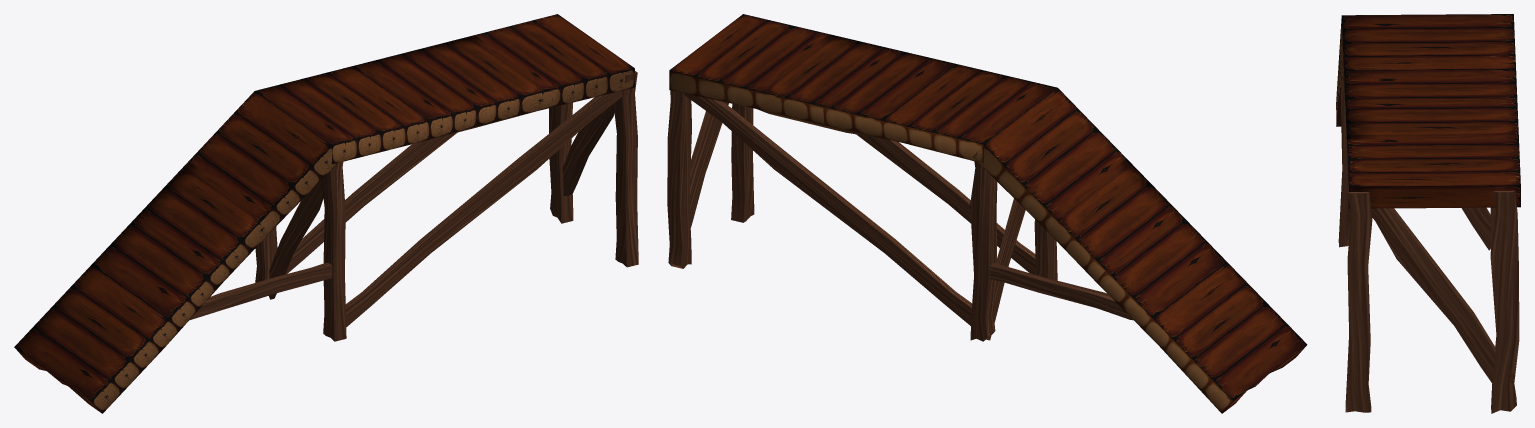
Rendered from Slop.fbx.
3 renders of one model, left to right at view 1: azimuth 30°, elevation 25°; view 2: azimuth 150°, elevation 25°; view 3: azimuth 270°, elevation 25°, orthographic. The views are drawn at different scales.
Visible parts, largest first — view 1: Small_up_with_slop2; view 2: Small_up_with_slop2; view 3: Small_up_with_slop2.
Boxes of the visible parts, <box> form: Small_up_with_slop2: <box>14,14,638,413</box>; Small_up_with_slop2: <box>667,14,1307,413</box>; Small_up_with_slop2: <box>1336,14,1520,413</box>.
Bounding box in the file's own units: 8.86 × 3.22 × 2.23.
